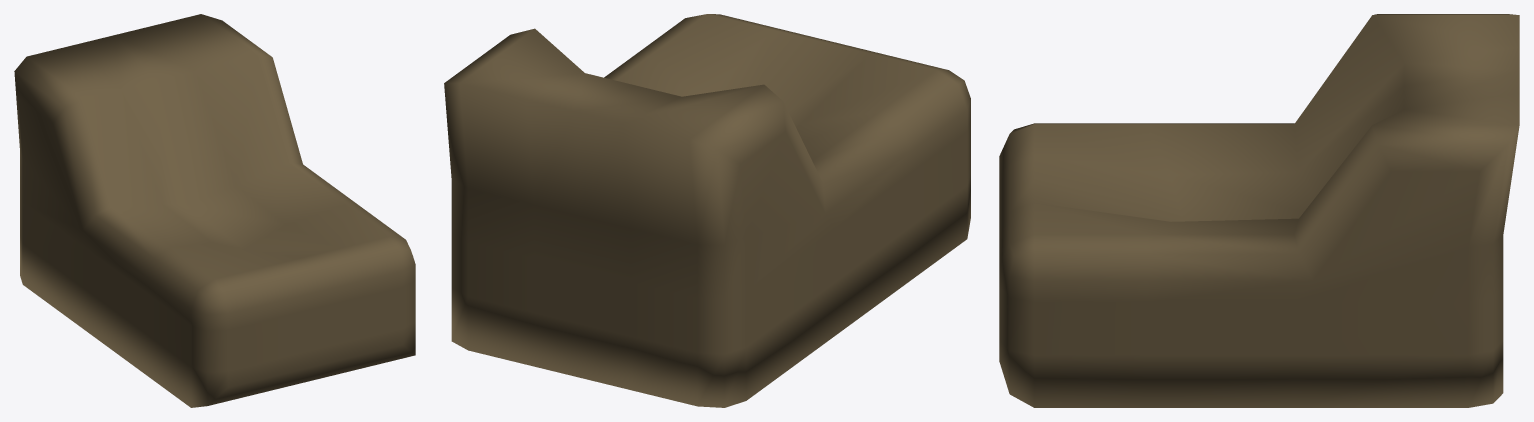
The model's file is beanpack4.fbx.
3 renders of one model, left to right at view 1: azimuth 30°, elevation 25°; view 2: azimuth 150°, elevation 25°; view 3: azimuth 270°, elevation 25°, orthographic. The views are drawn at different scales.
Parts seen in each view (by area): view 1: beanpack4; view 2: beanpack4; view 3: beanpack4.
Boxes of the visible parts, left/top/right/bottom form: beanpack4: left=14, top=14, right=415, bottom=407; beanpack4: left=444, top=14, right=970, bottom=407; beanpack4: left=999, top=14, right=1519, bottom=407.
Bounding box in the file's own units: 0.00751 × 0.00673 × 0.0118.
1 material, 1 textured.
